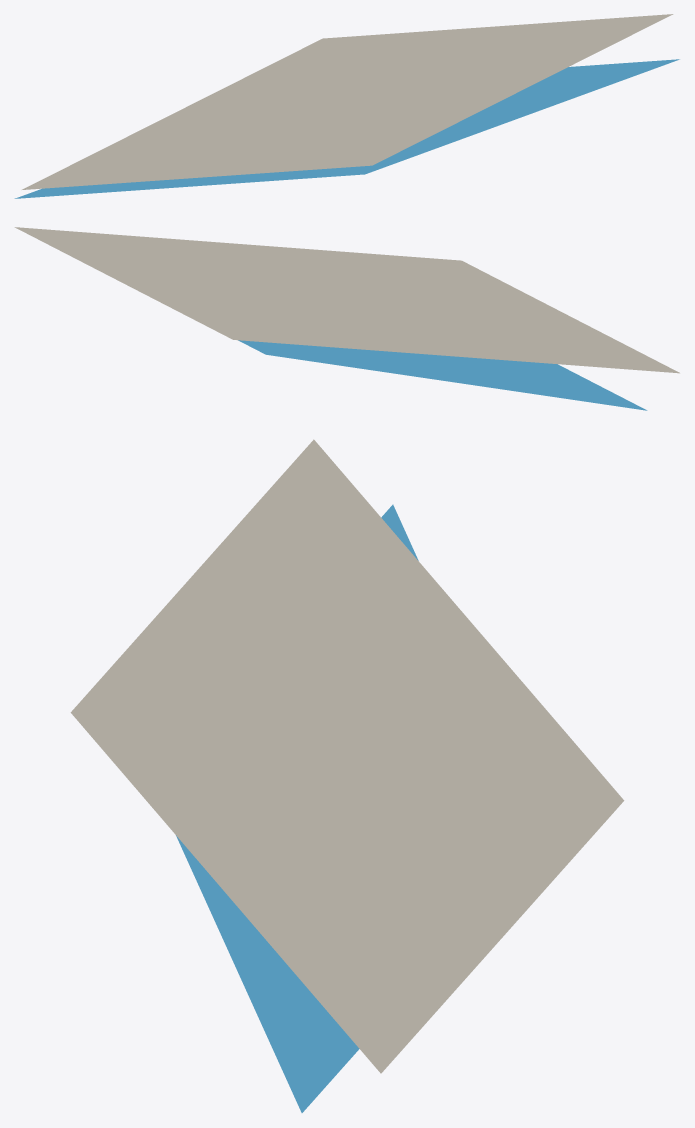
3 renders of one model, top to bottom at view 1: azimuth 30°, elevation 25°; view 2: azimuth 150°, elevation 25°; view 3: azimuth 270°, elevation 25°, orthographic. The views are drawn at different scales.
Parts seen in each view (by area): view 1: estructura_terreno, estructura_agua; view 2: estructura_terreno, estructura_agua; view 3: estructura_terreno, estructura_agua.
Boxes of the visible parts, x1,y1,x2,y2 form: estructura_terreno: (22, 14, 673, 189); estructura_agua: (14, 59, 679, 198); estructura_terreno: (14, 227, 679, 373); estructura_agua: (238, 340, 647, 410); estructura_terreno: (70, 439, 624, 1073); estructura_agua: (176, 504, 418, 1112).
Bounding box in the file's own units: 10.66 × 0.41 × 3.93.
